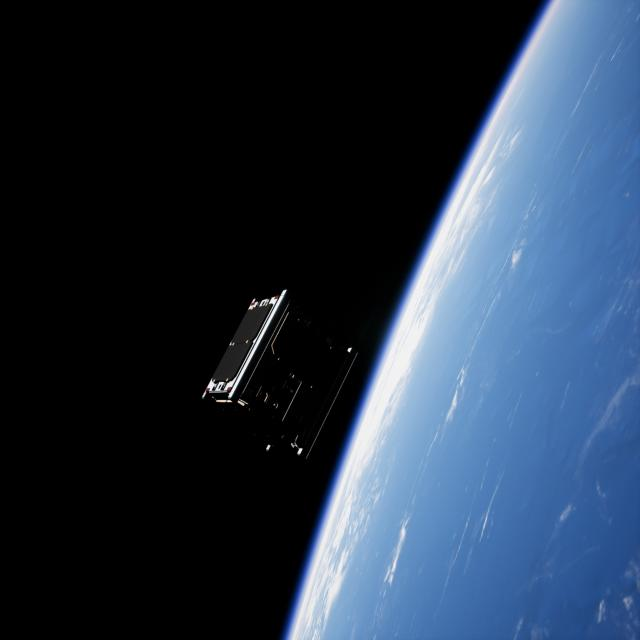satellite: (201, 288, 366, 457)
